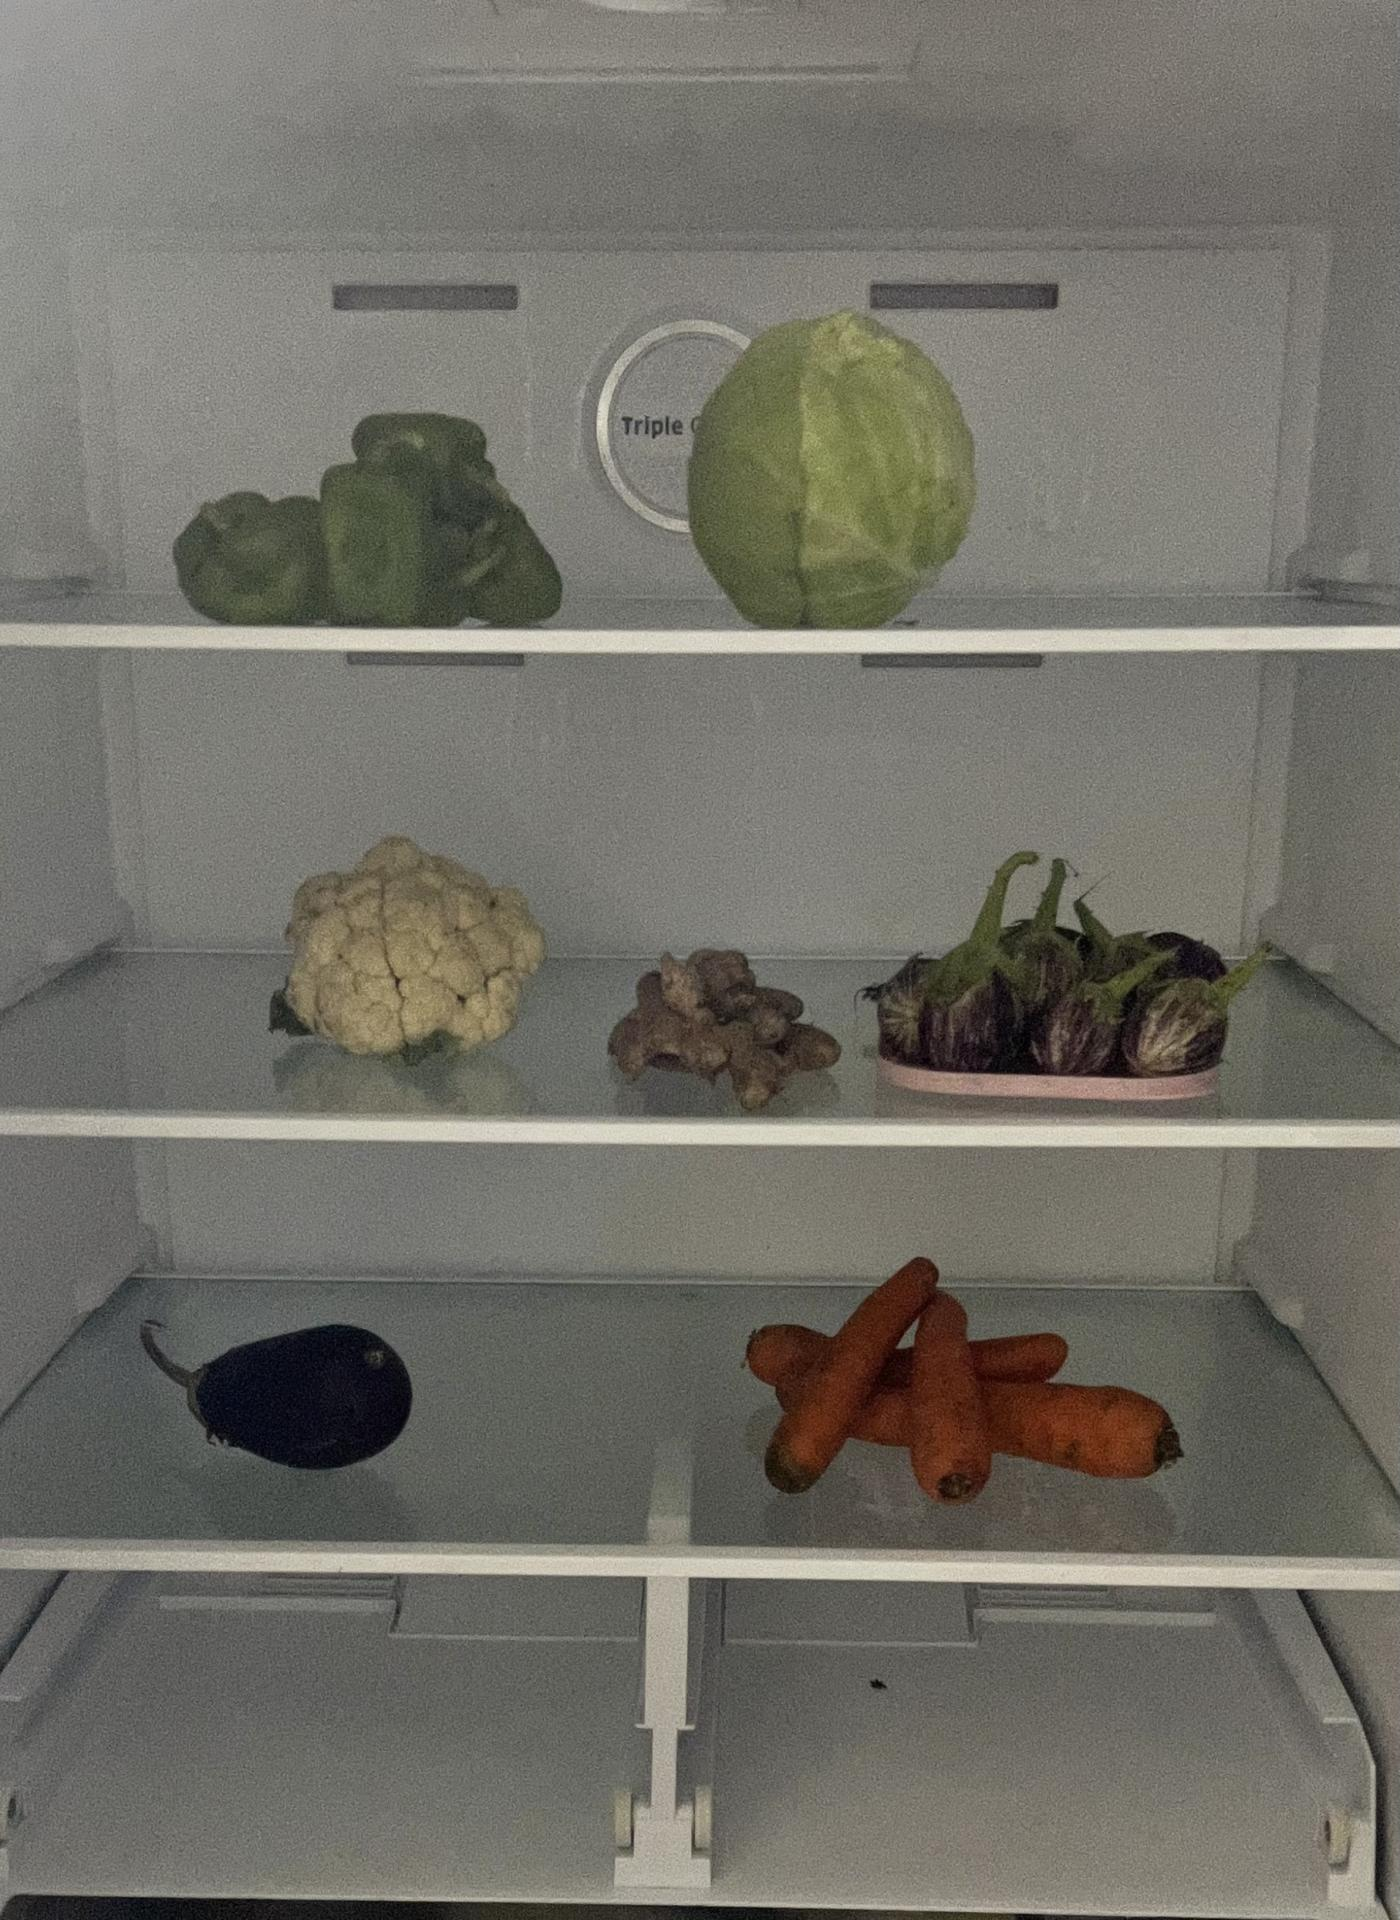brinjal: (869, 894, 1233, 1078), (133, 1298, 409, 1461)
cabbage: (677, 310, 978, 613)
capsicum: (194, 417, 565, 623)
carrots: (747, 1252, 1182, 1498)
cauliflower: (288, 835, 552, 1049)
ginger: (611, 951, 845, 1108)
